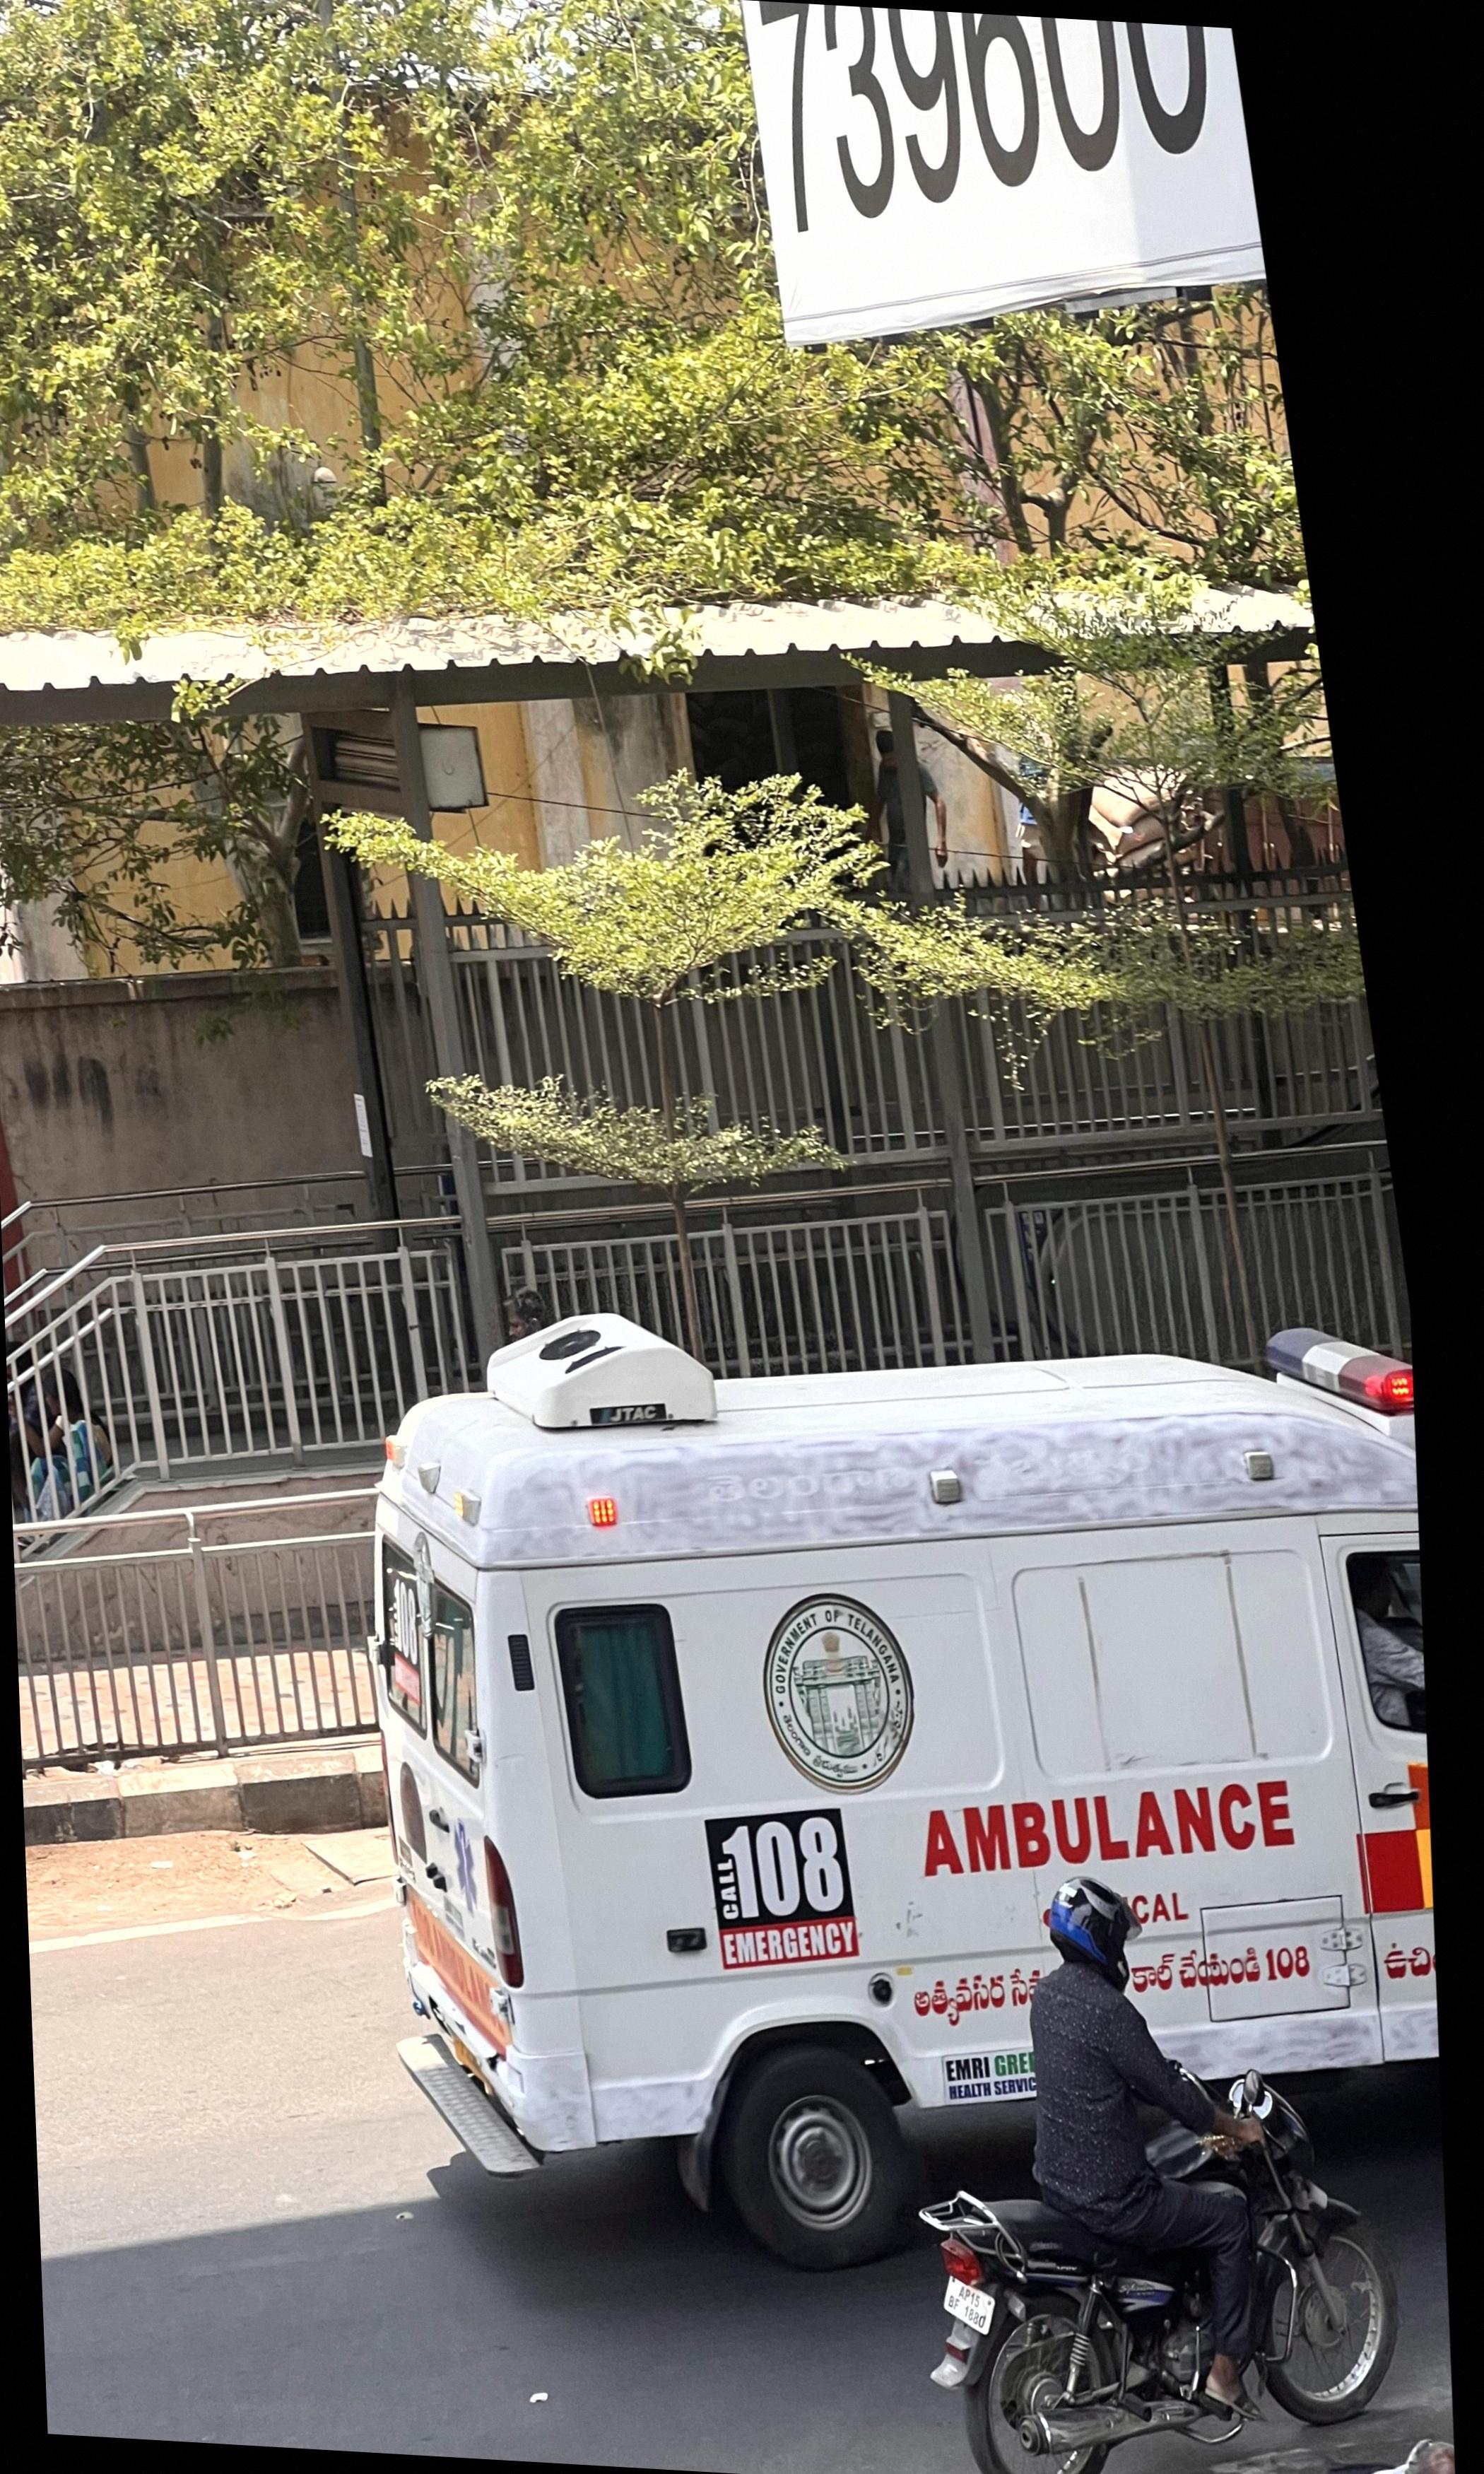ambulance: (371, 1315, 1440, 2276)
